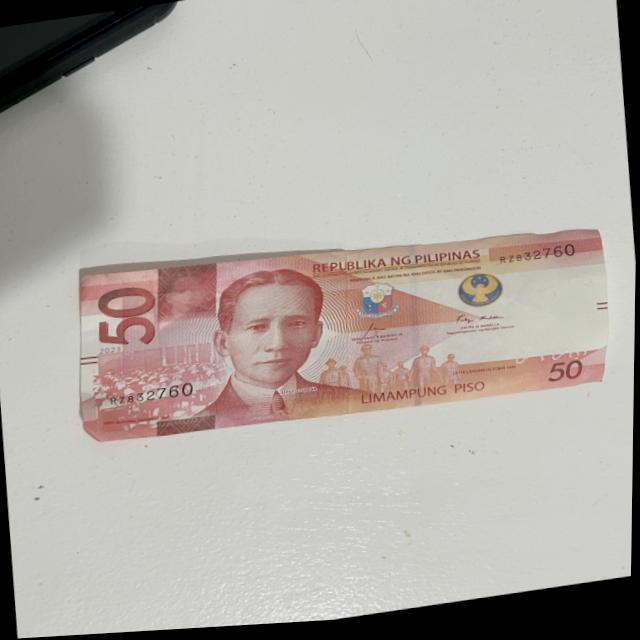concealed_value: (158, 262, 219, 329)
security_thread: (395, 243, 446, 413)
see_through_mark: (507, 347, 604, 377)
serial_number: (488, 239, 589, 282), (100, 373, 200, 416)
value: (88, 279, 161, 361)
